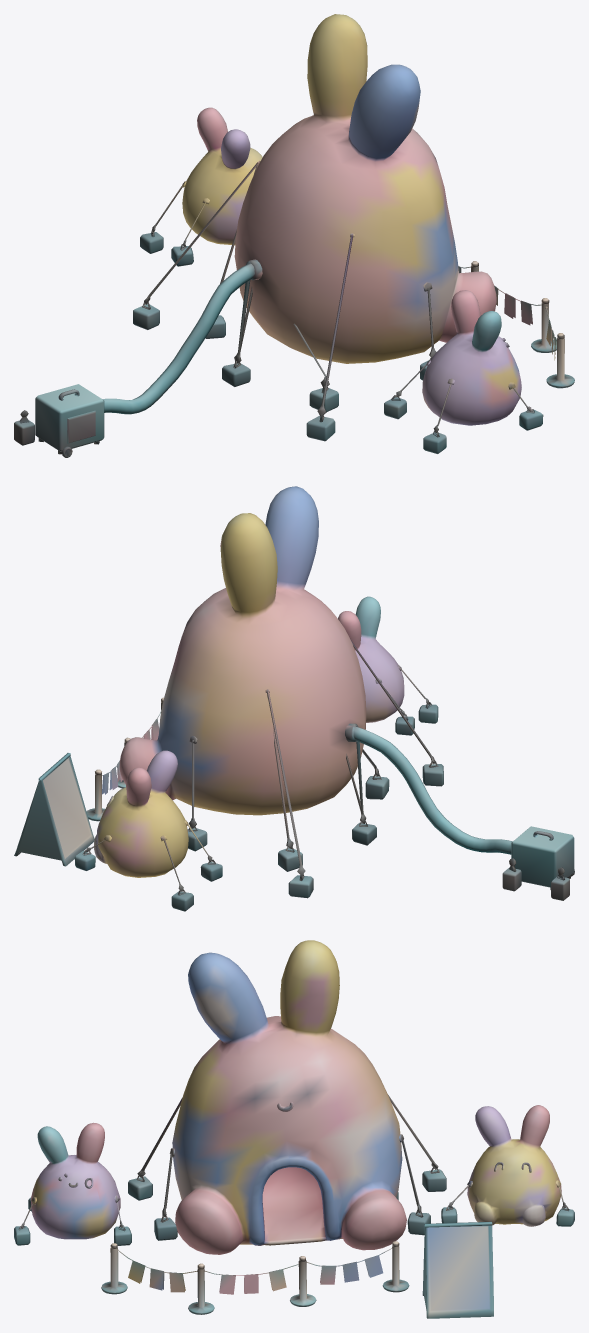
File: inflatable_rabbits.glb
The picture shows the model from 3 angles, top to bottom: view 1: azimuth 30°, elevation 25°; view 2: azimuth 150°, elevation 25°; view 3: azimuth 270°, elevation 25°; orthographic projection. The views are drawn at different scales.
Parts seen in each view (by area): view 1: SM_inflatable_rabbits; view 2: SM_inflatable_rabbits; view 3: SM_inflatable_rabbits.
Part boxes in pixels (x1,y1,x2,y2): SM_inflatable_rabbits: (14, 14, 574, 457); SM_inflatable_rabbits: (14, 486, 574, 911); SM_inflatable_rabbits: (14, 940, 574, 1318).
Bounding box in the file's own units: 1.52 × 1 × 1.62.
